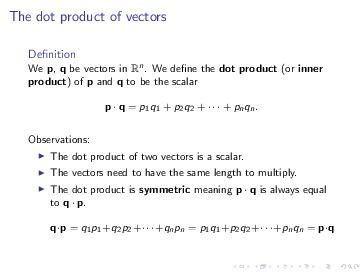paragraph: (49, 148, 343, 249), (26, 60, 335, 128)
subtitle: (26, 130, 91, 148), (27, 46, 79, 62)
title: (8, 6, 172, 28)
